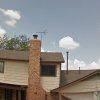Chimney: (26, 28, 46, 46)
